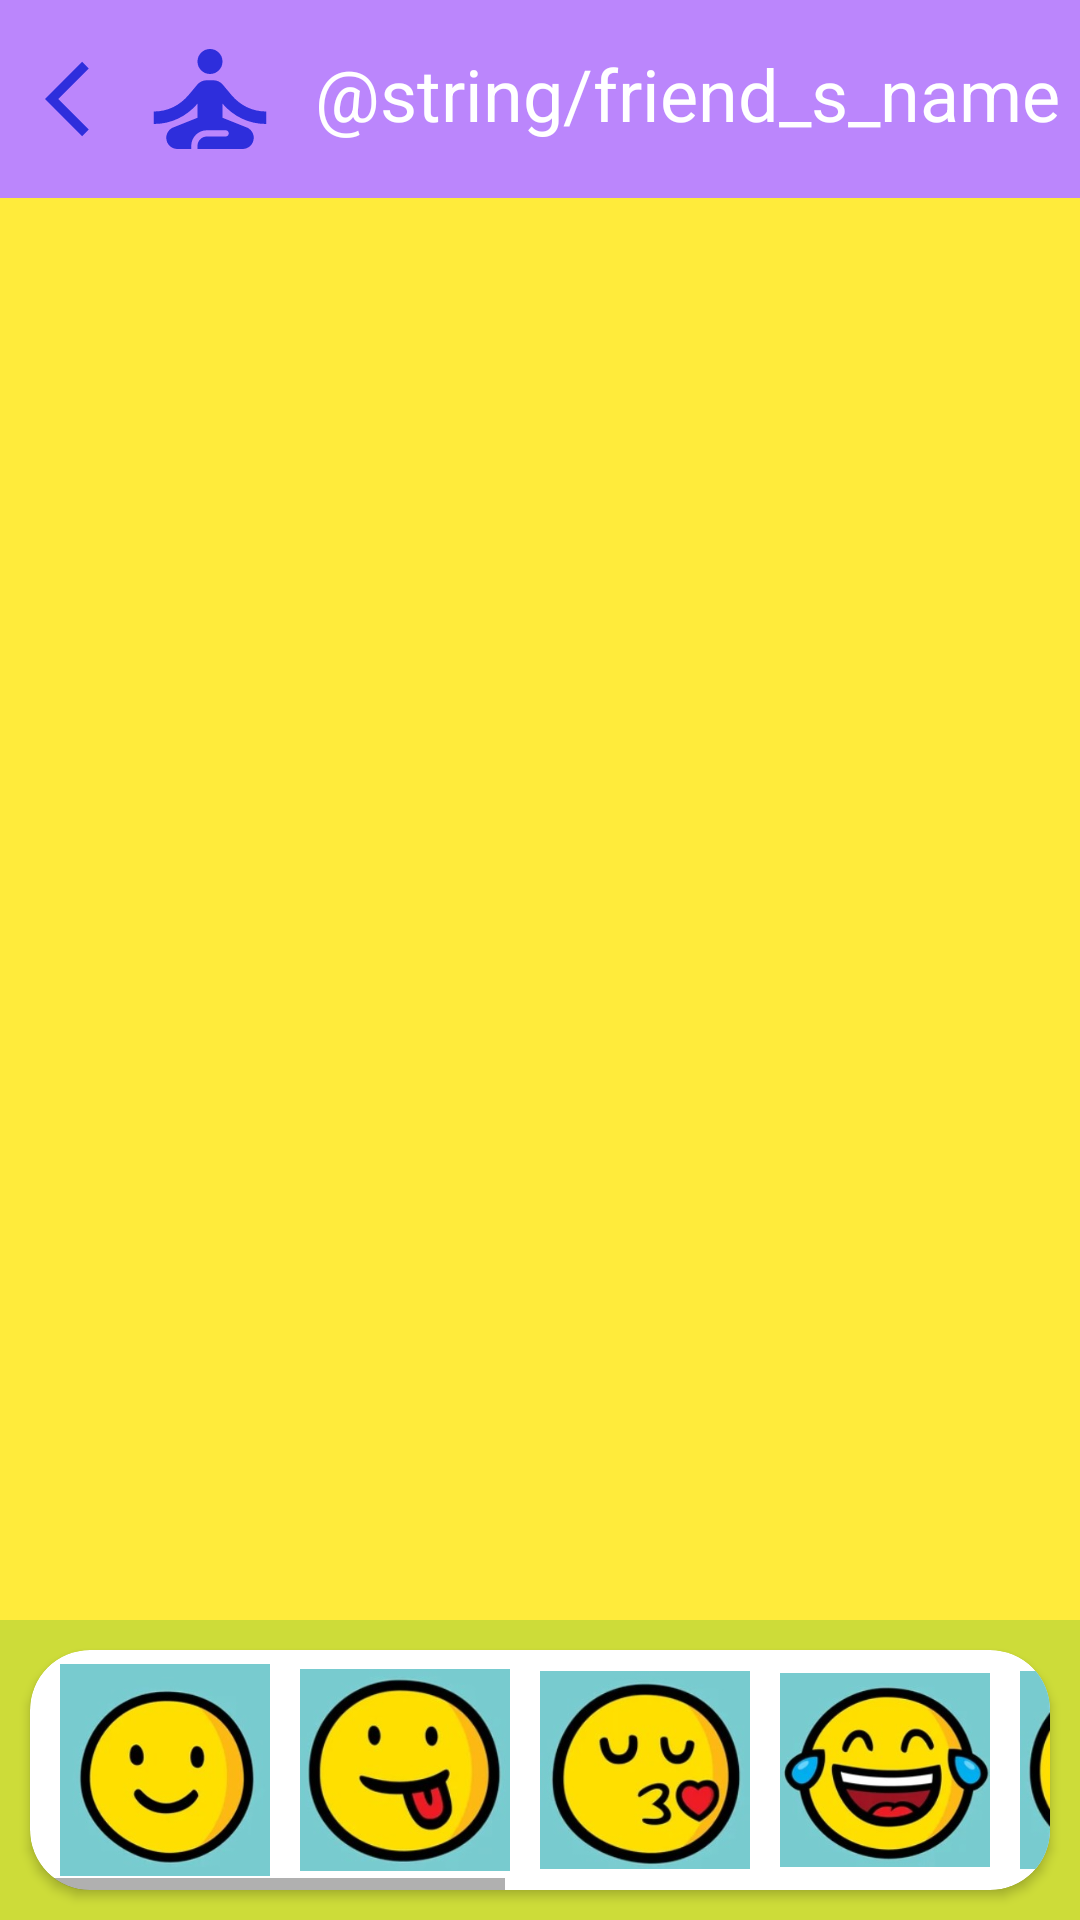

Where to tap for icons on this 1080*1920 app screen, as (x,y):
back: (67,99)
kiss: (645,1770)
lol: (885,1770)
smile: (165,1770)
tongue: (405,1770)
